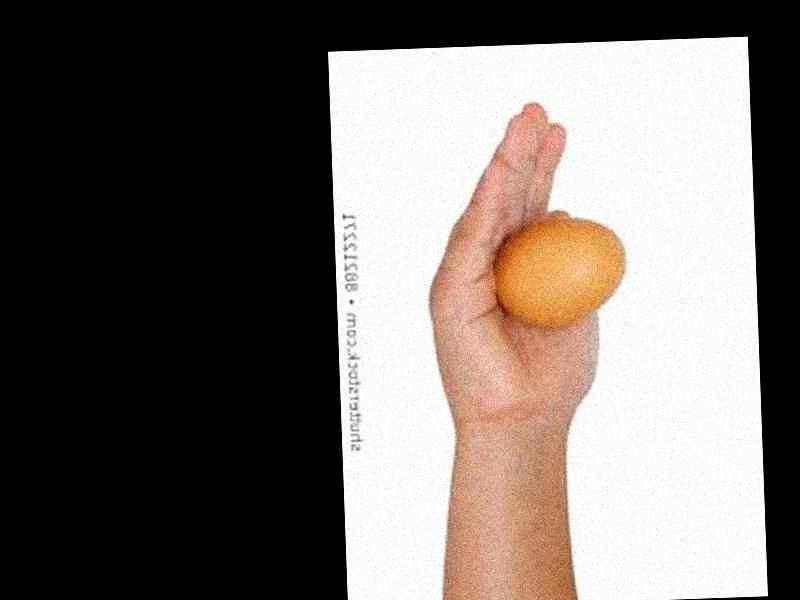Eggs: (490, 216, 629, 328)
